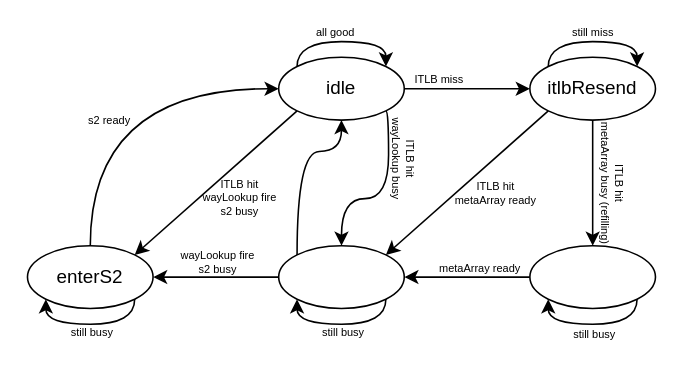
Image size: 683x367. Some labels were removed from this diagram. The shapes that lost their labels are listed below. From the top down, each one's centre as x and y in pixels, then its label:
the point at 340,276: enqWay
the point at 591,276: metaResend
